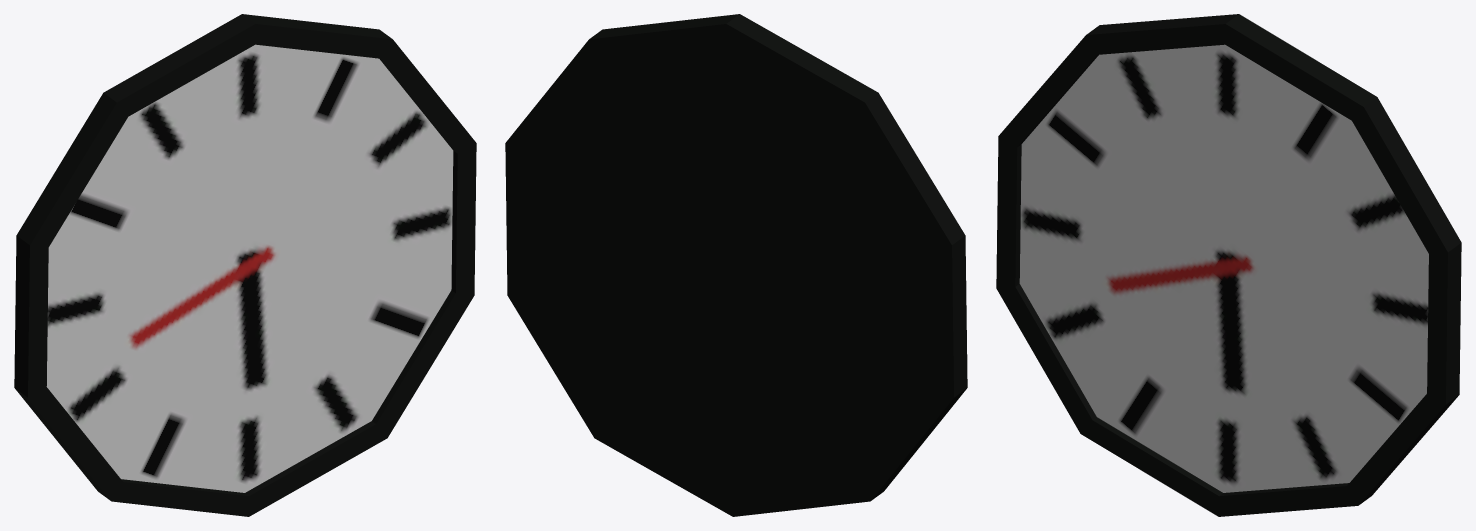
Rendered from SM_Int_WallClock01.obj.
3 views of the same model, side by side, from view 1: azimuth 30°, elevation 25°; view 2: azimuth 150°, elevation 25°; view 3: azimuth 330°, elevation 25° (orthographic).
Parts seen in each view (by area): view 1: SM_Int_WallClock01_MI_AtlasSchool01A; view 2: SM_Int_WallClock01_MI_AtlasSchool01A; view 3: SM_Int_WallClock01_MI_AtlasSchool01A.
Boxes of the visible parts, x1,y1,x2,y2 form: SM_Int_WallClock01_MI_AtlasSchool01A: (14, 14, 476, 516); SM_Int_WallClock01_MI_AtlasSchool01A: (505, 14, 967, 516); SM_Int_WallClock01_MI_AtlasSchool01A: (996, 14, 1461, 516).
Bounding box in the file's own units: 0.4778 × 0.5001 × 0.025.
1 material, 1 textured.
